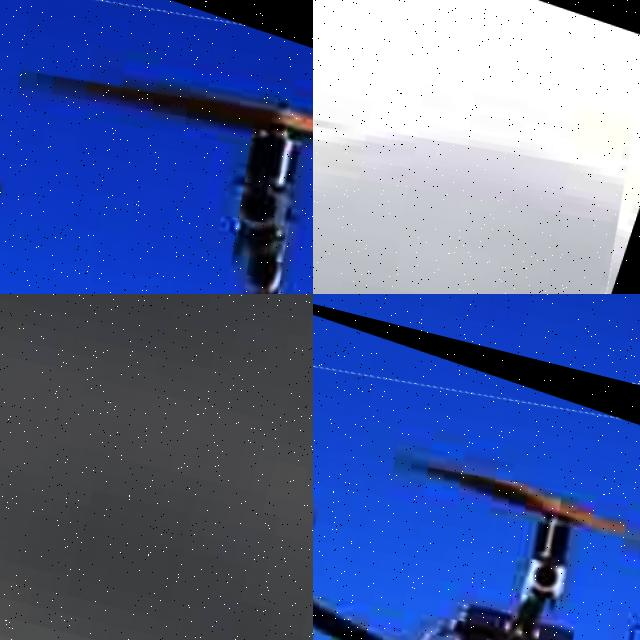0: (313, 294, 640, 640), (0, 0, 313, 294)
drone: (313, 0, 640, 294)
